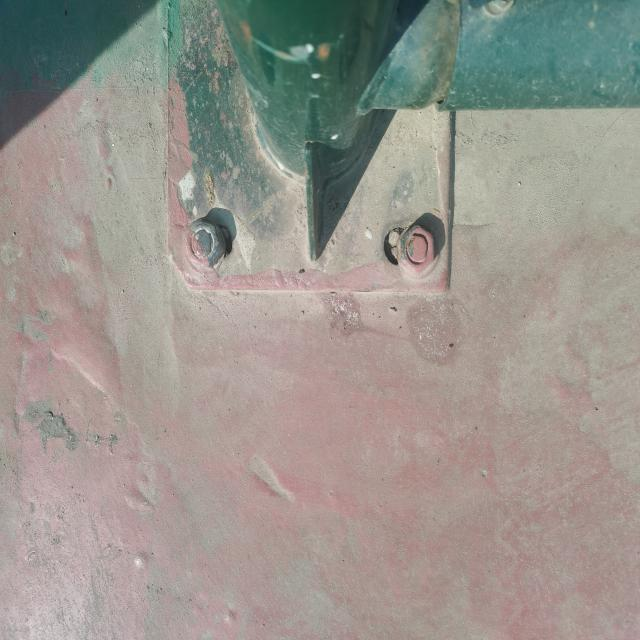bolt nut: (396, 220, 438, 278), (182, 218, 226, 270)
